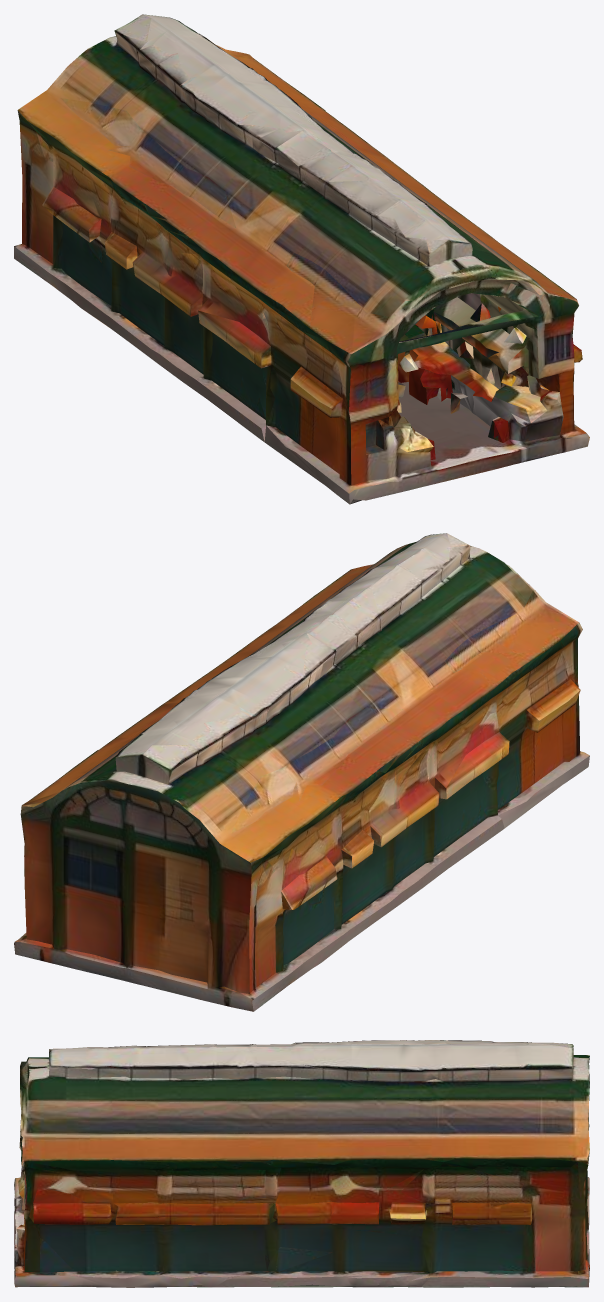
The model's file is gwangjang-market.glb.
3 views of the same model, one above another, from view 1: azimuth 30°, elevation 25°; view 2: azimuth 150°, elevation 25°; view 3: azimuth 270°, elevation 25° (orthographic). The views are drawn at different scales.
Parts seen in each view (by area): view 1: logan-textured.obj; view 2: logan-textured.obj; view 3: logan-textured.obj.
Boxes of the visible parts, bbox=[...] form: logan-textured.obj: bbox=[14, 14, 589, 504]; logan-textured.obj: bbox=[14, 533, 589, 1011]; logan-textured.obj: bbox=[14, 1040, 589, 1287].
Bounding box in the file's own units: 0.4274 × 0.3703 × 1.
Materials: 1 (1 with a texture image).
